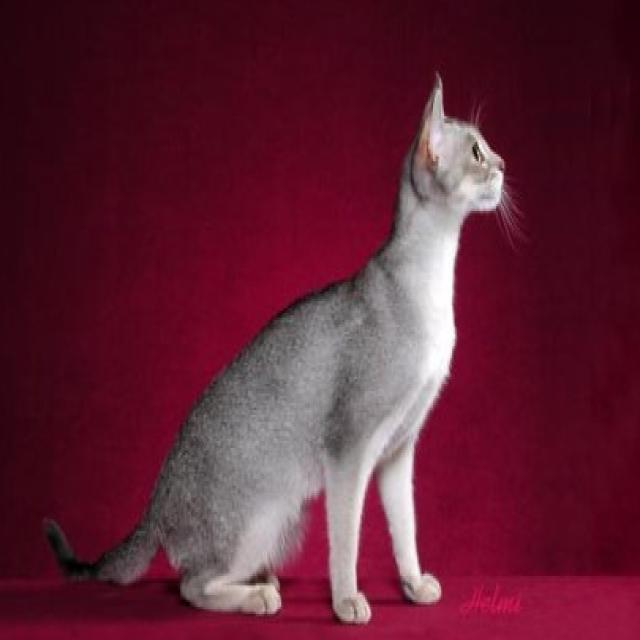Abyssinian: (39, 68, 508, 634)
